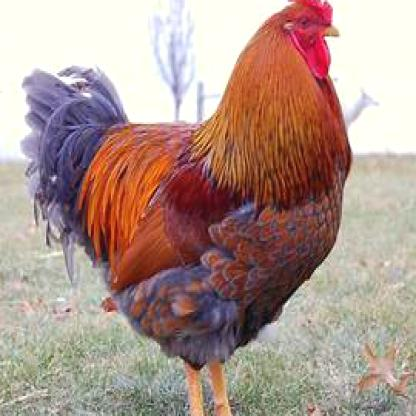chicken: (20, 0, 357, 414)
